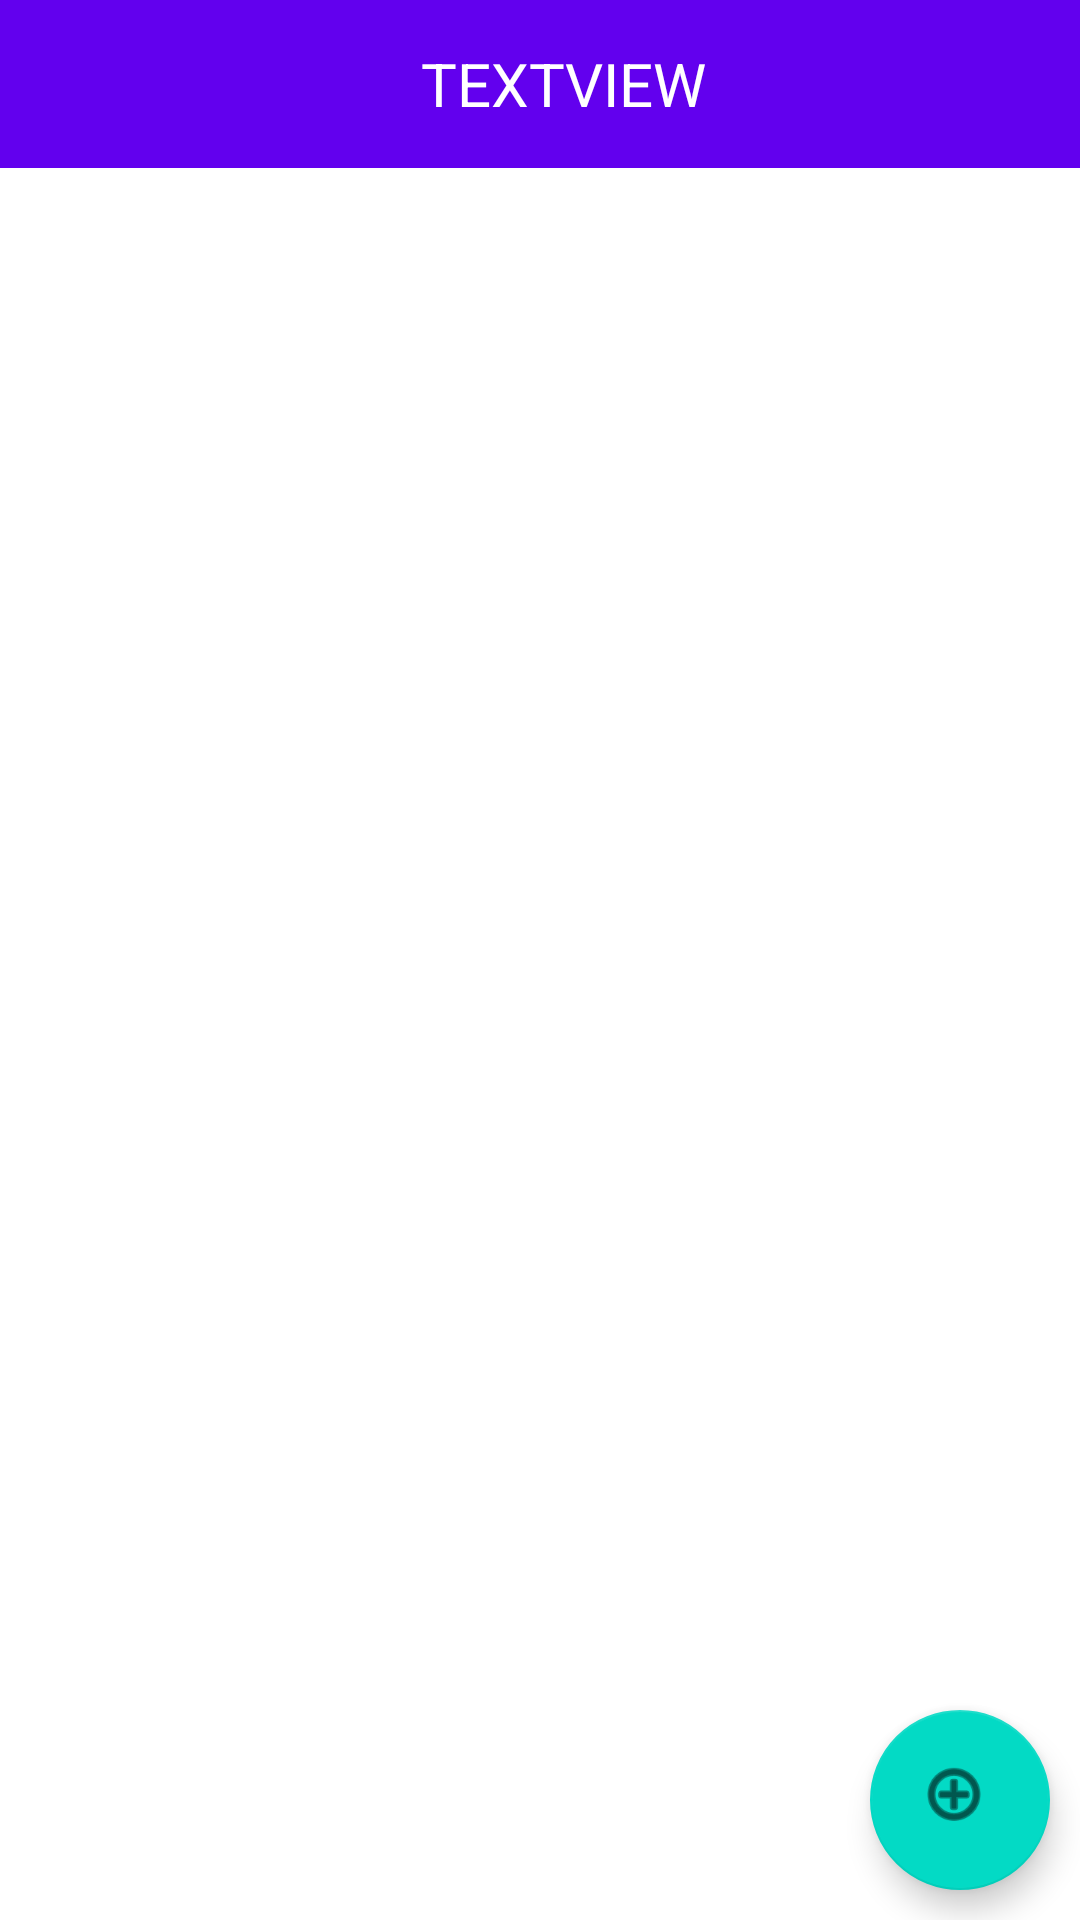

Point at icon controls on the screen. Image size 1080w x 1920h, points as (x=x, y=y).
add: (x=960, y=1800)
